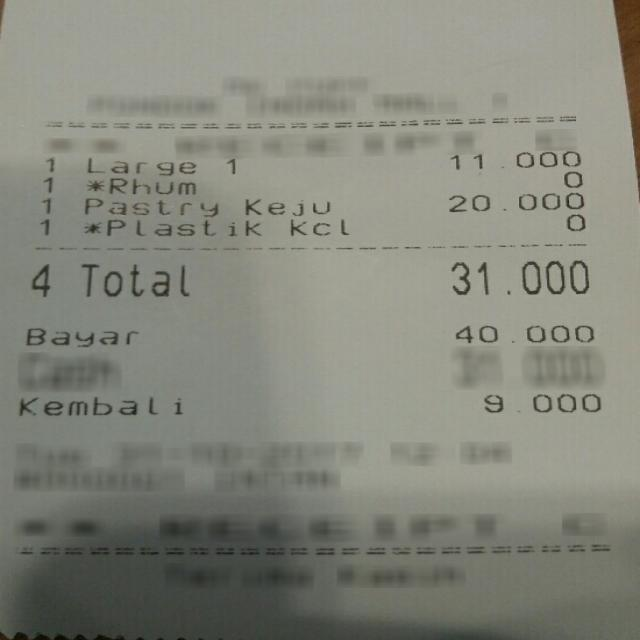text: (449, 259, 584, 294), (78, 263, 187, 296), (85, 218, 259, 237), (19, 395, 180, 414), (449, 148, 580, 170), (446, 191, 583, 212), (84, 197, 219, 216), (85, 157, 193, 179), (483, 392, 598, 412), (453, 324, 592, 340), (85, 178, 193, 198), (25, 328, 136, 346), (244, 198, 328, 216), (290, 218, 346, 234), (29, 263, 49, 296), (564, 212, 584, 231), (560, 170, 580, 188), (37, 218, 50, 236), (42, 156, 55, 172), (43, 175, 54, 192), (40, 198, 51, 215), (226, 157, 234, 174)
